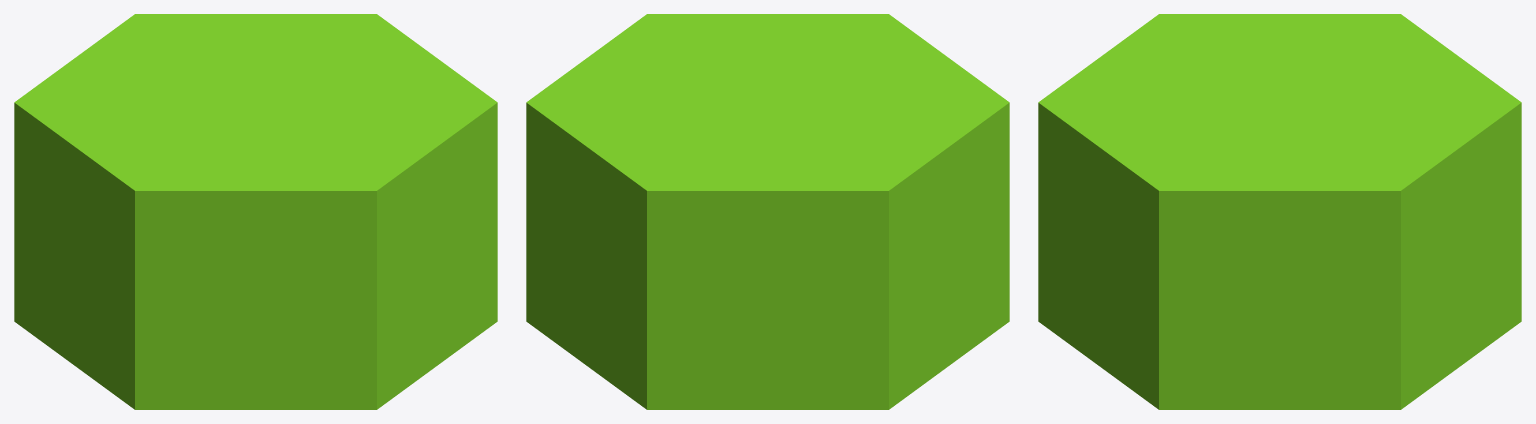
Rendered from Tile_Grass_01_Coast.gltf.
3 renders of one model, left to right at view 1: azimuth 30°, elevation 25°; view 2: azimuth 150°, elevation 25°; view 3: azimuth 270°, elevation 25°, orthographic.
Parts seen in each view (by area): view 1: Tile_Grass_01_Coast; view 2: Tile_Grass_01_Coast; view 3: Tile_Grass_01_Coast.
Boxes of the visible parts, <box> form: Tile_Grass_01_Coast: <box>14,14,497,409</box>; Tile_Grass_01_Coast: <box>526,14,1009,409</box>; Tile_Grass_01_Coast: <box>1038,14,1521,409</box>.
Size of the model in its own units: 1.73 by 1 by 2.
Materials: 1 (1 with a texture image).
